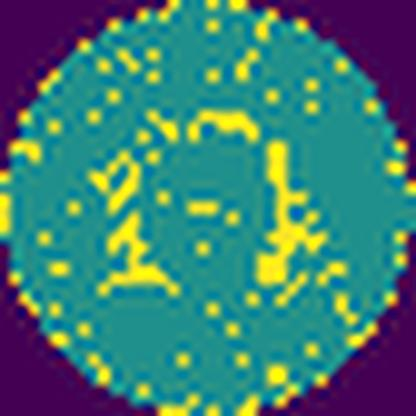Donut: (90, 105, 334, 310)
